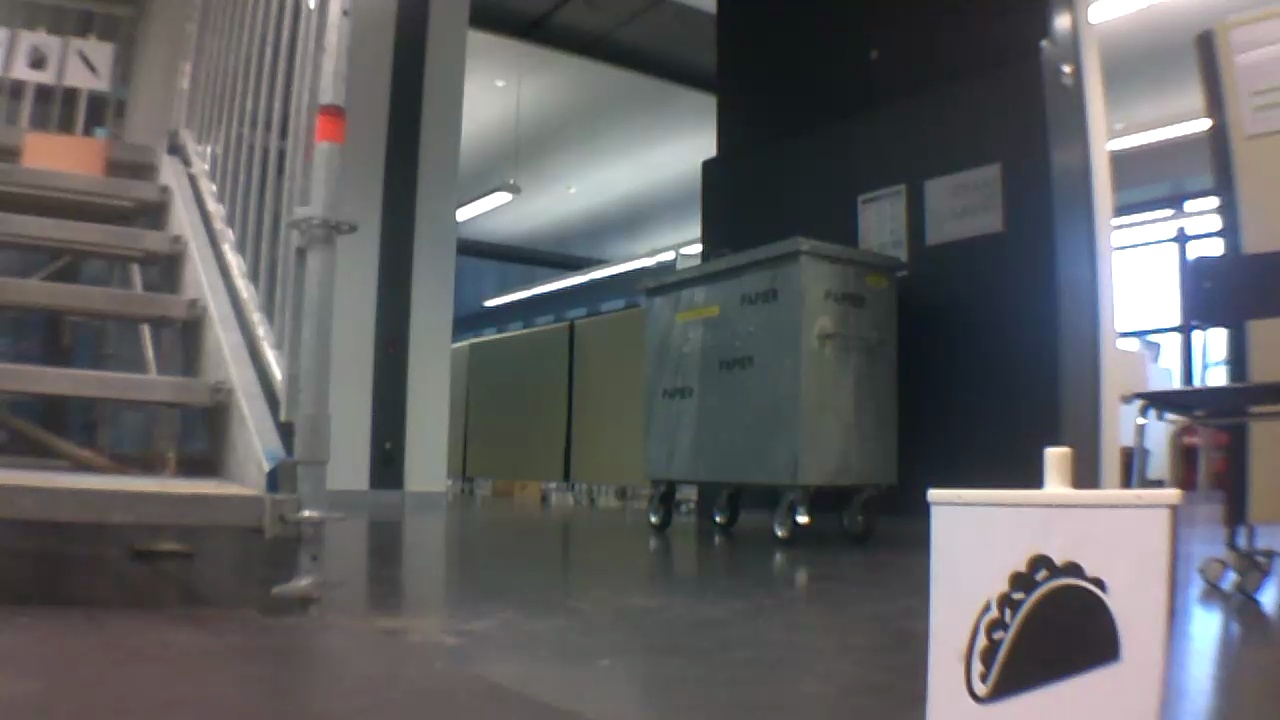brick: (24, 132, 104, 175)
bucket: (23, 39, 56, 72)
edge: (2, 482, 260, 528), (0, 276, 206, 322), (0, 367, 230, 407), (1, 214, 189, 258), (0, 167, 170, 204)
pencil: (75, 47, 102, 81)
taco: (944, 544, 1139, 713)
